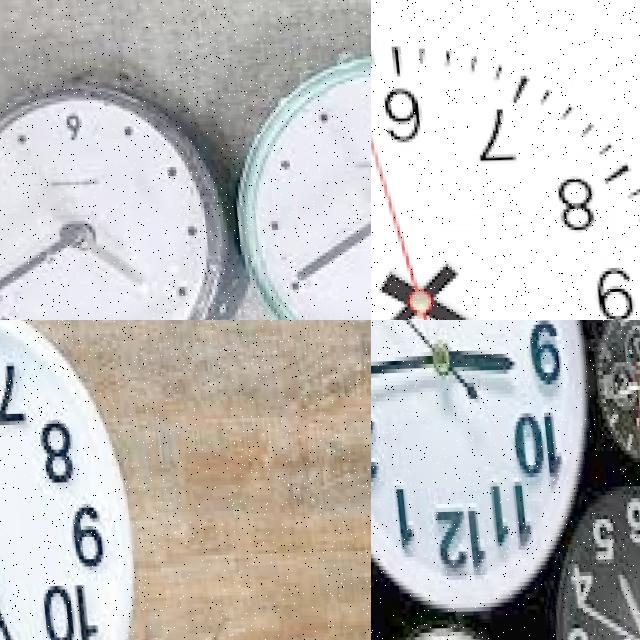Clocks-images: (372, 40, 640, 321), (372, 321, 601, 623), (1, 77, 229, 321), (1, 321, 141, 640), (221, 53, 372, 321), (528, 488, 640, 640), (582, 321, 640, 468)
